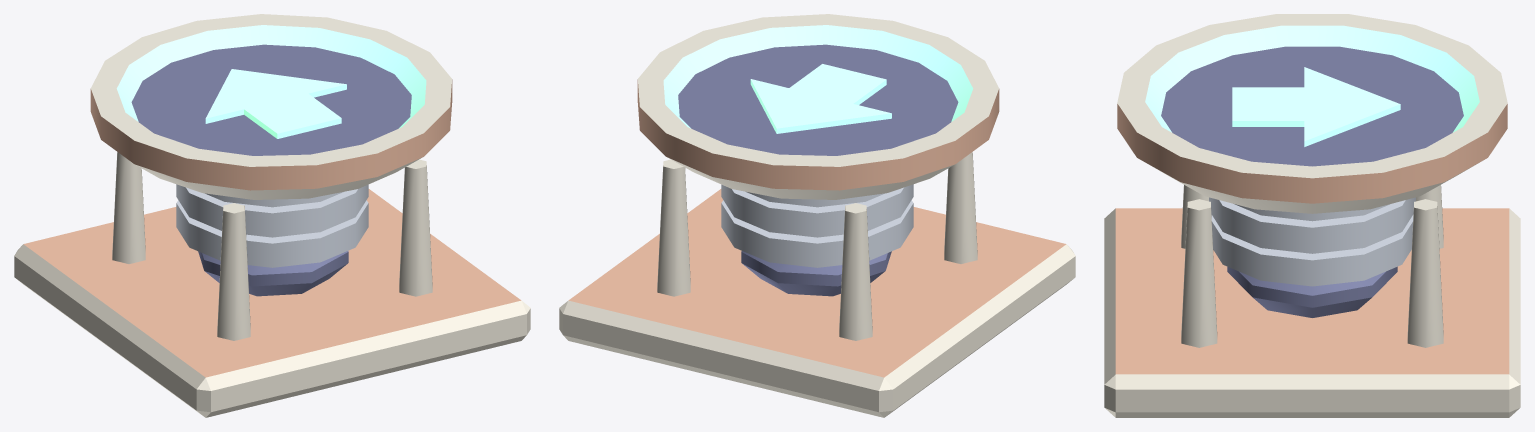
Rendered from R4X_JumpPadDeployer_LOD1.fbx.
3 renders of one model, left to right at view 1: azimuth 30°, elevation 25°; view 2: azimuth 150°, elevation 25°; view 3: azimuth 270°, elevation 25°, orthographic. The views are drawn at different scales.
Parts seen in each view (by area): view 1: R4X_JumpPadDeployer_LOD1; view 2: R4X_JumpPadDeployer_LOD1; view 3: R4X_JumpPadDeployer_LOD1.
Part boxes in pixels (x1,y1,x2,y2): R4X_JumpPadDeployer_LOD1: [14, 14, 530, 417]; R4X_JumpPadDeployer_LOD1: [559, 14, 1075, 417]; R4X_JumpPadDeployer_LOD1: [1104, 14, 1520, 417].
Size of the model in its own units: 0.52 by 0.33 by 0.52.
